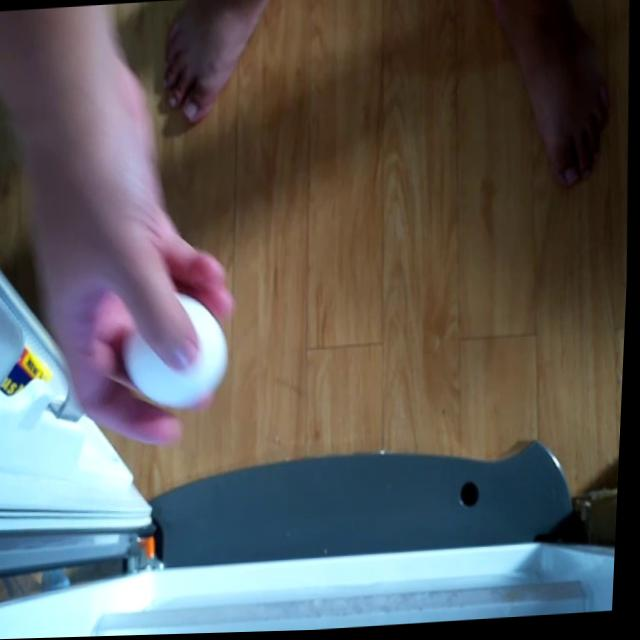egg: (121, 295, 237, 407)
